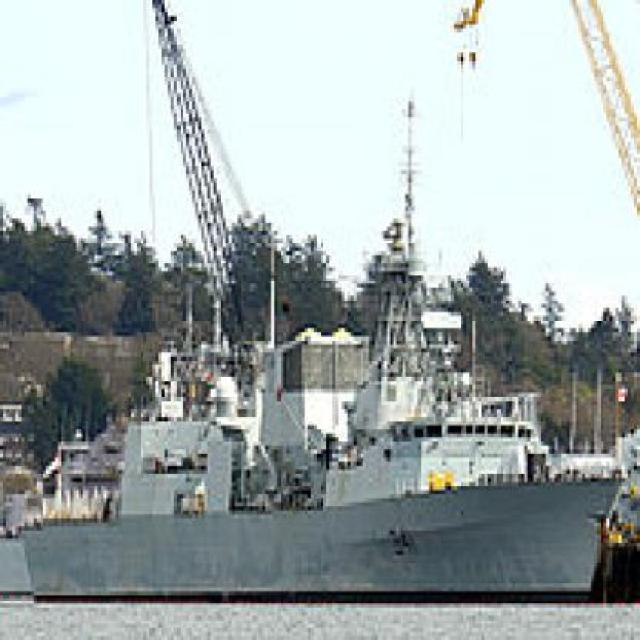warship2: (14, 195, 623, 609)
